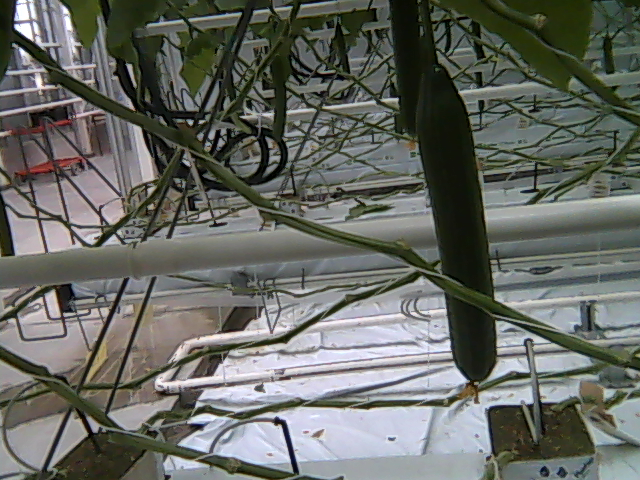concombre: (410, 58, 501, 408)
